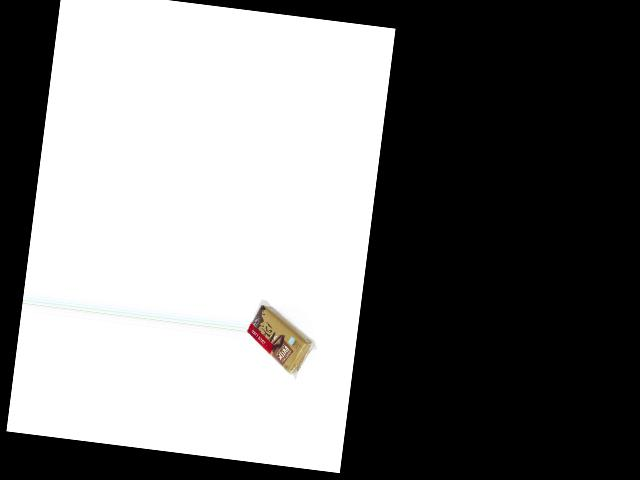chocolate: (242, 302, 317, 384)
